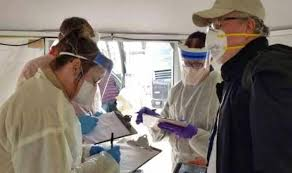mask: (60, 39, 112, 116), (203, 11, 259, 68), (178, 39, 204, 87)
